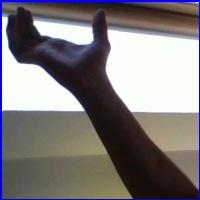space: (6, 5, 119, 84)
